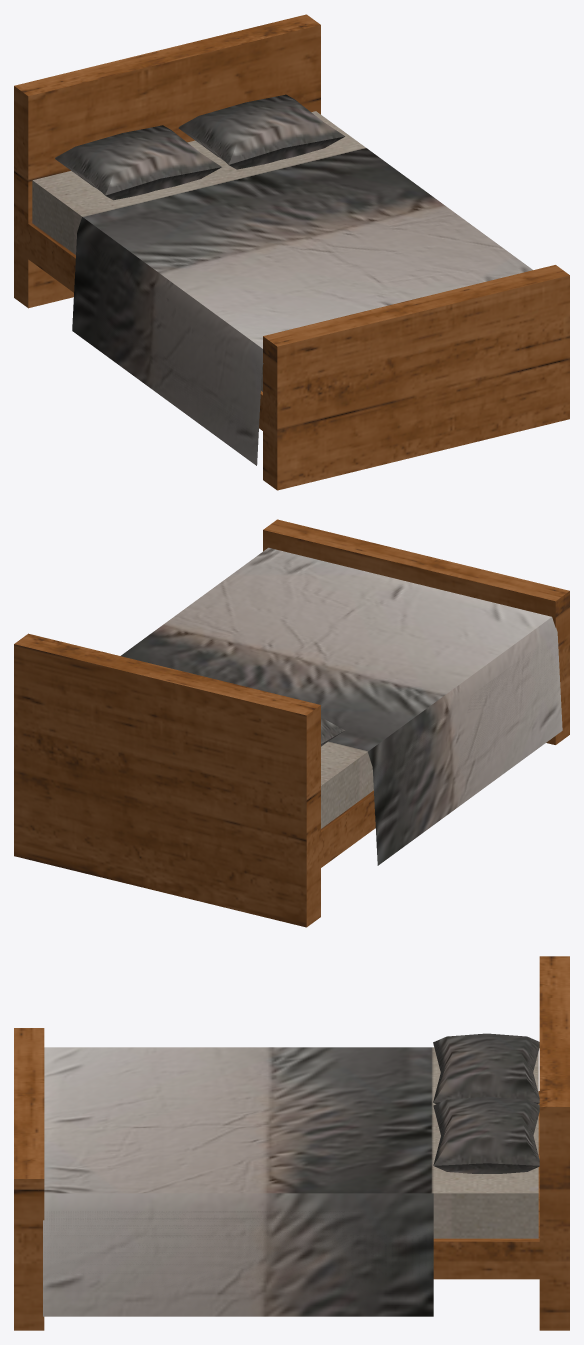
Rendered from bed_03-col.glb.
3 views of the same model, one above another, from view 1: azimuth 30°, elevation 25°; view 2: azimuth 150°, elevation 25°; view 3: azimuth 270°, elevation 25° (orthographic). The views are drawn at different scales.
Parts seen in each view (by area): view 1: bed_03-col; view 2: bed_03-col; view 3: bed_03-col.
Part boxes in pixels (x1,y1,x2,y2): bed_03-col: (14, 14, 569, 490); bed_03-col: (14, 519, 569, 927); bed_03-col: (14, 956, 569, 1330).
Bounding box in the file's own units: 1.64 × 1.1 × 2.47.
Materials: 1 (1 with a texture image).
